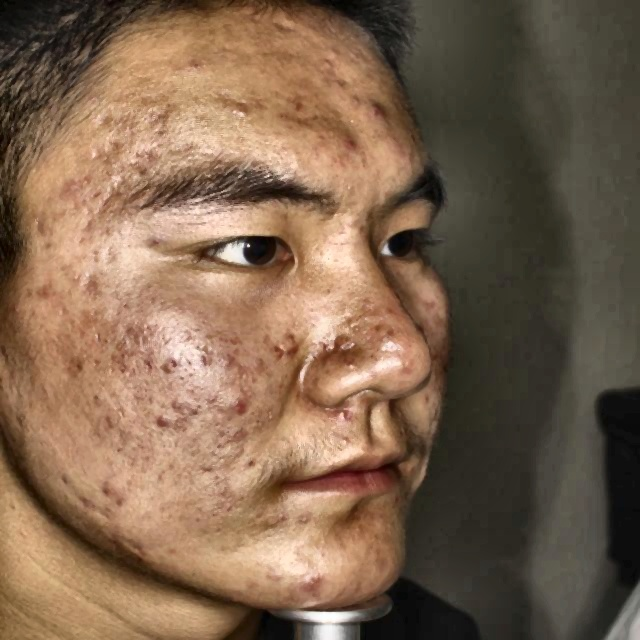papule: (167, 382, 213, 417), (110, 530, 148, 568), (220, 397, 265, 425), (362, 315, 398, 350), (98, 476, 133, 511), (325, 332, 357, 370), (330, 132, 364, 166), (215, 96, 252, 127), (74, 494, 115, 521), (322, 409, 360, 434), (298, 568, 330, 596), (32, 275, 60, 306), (286, 89, 312, 122), (215, 424, 248, 450), (312, 54, 346, 78), (155, 349, 181, 380), (153, 407, 180, 435), (224, 347, 248, 373), (395, 355, 418, 380), (281, 336, 303, 361), (374, 95, 393, 120)
